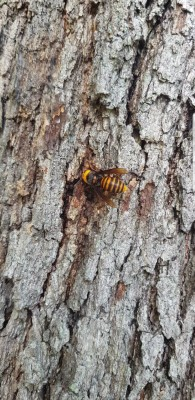asian_giant_hornet: (79, 165, 130, 194)
